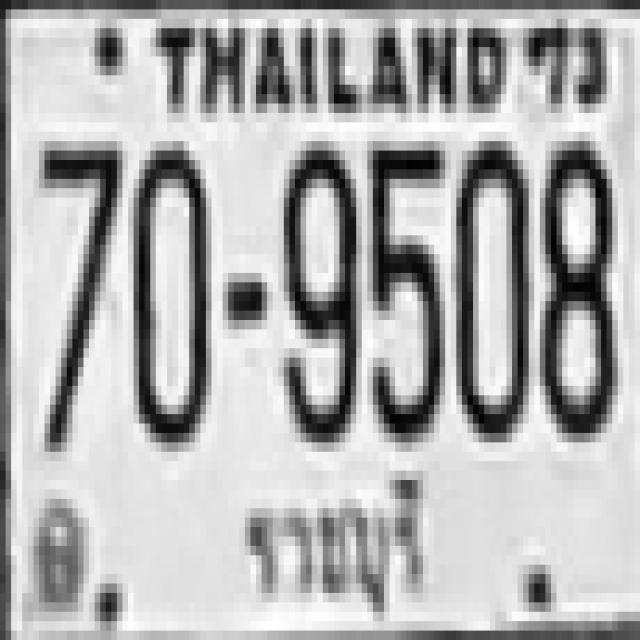0: (128, 142, 206, 442), (453, 132, 526, 433)
5: (367, 132, 440, 433)
7: (39, 132, 117, 442)
8: (534, 132, 612, 433)
9: (278, 141, 356, 433)
RBR: (231, 460, 431, 621)
